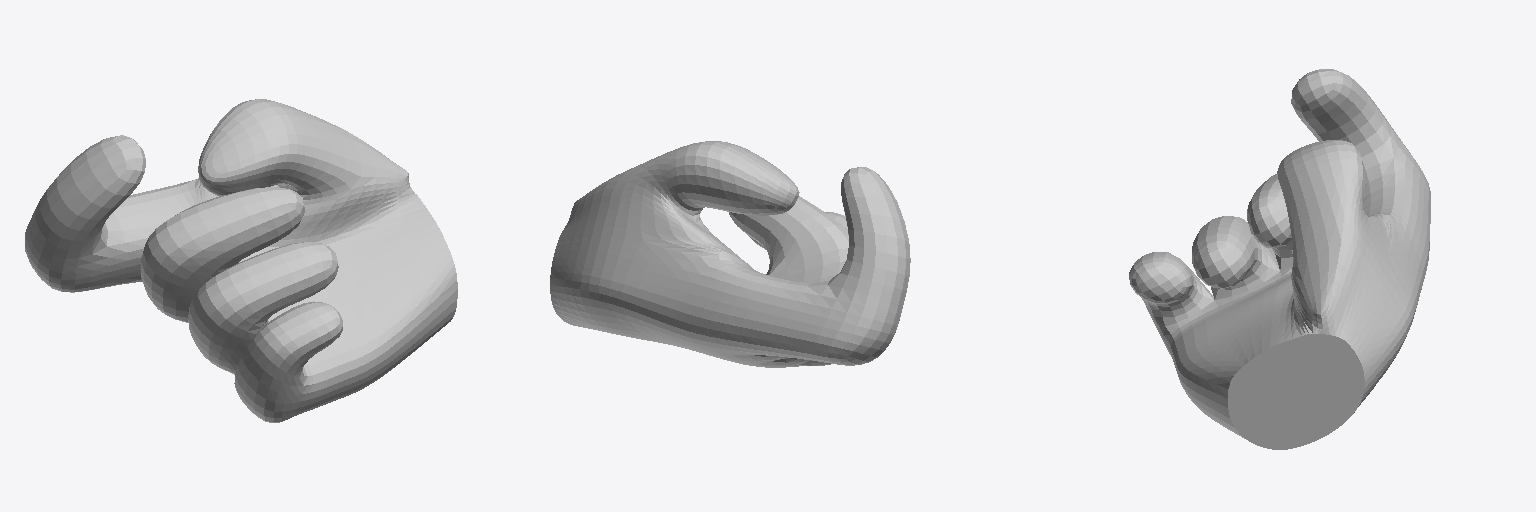
3 renders of one model, left to right at view 1: azimuth 30°, elevation 25°; view 2: azimuth 150°, elevation 25°; view 3: azimuth 270°, elevation 25°, orthographic.
Parts seen in each view (by area): view 1: X_HAND; view 2: X_HAND; view 3: X_HAND.
Boxes of the visible parts, x1,y1,x2,y2 form: X_HAND: [25, 99, 457, 422]; X_HAND: [550, 141, 910, 367]; X_HAND: [1129, 69, 1430, 449].
Bounding box in the file's own units: 147 × 104 × 110.